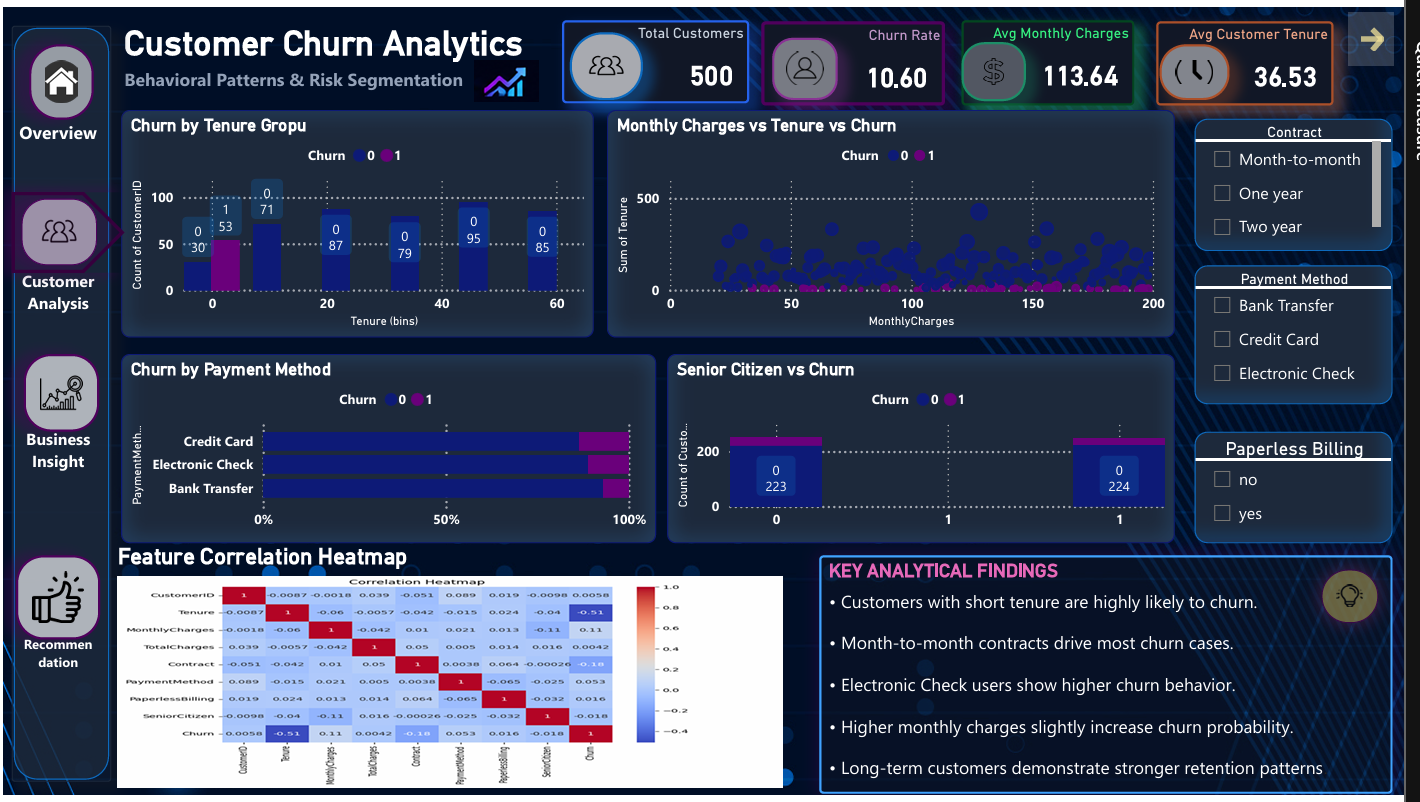

Layout of this report page (visuals, bound fields, positions):
{"tool":"powerbi","page":{"name":"Customer Churn Analysis","canvas":[1280,720],"ordinal":1},"visuals":[{"type":"cardVisual","title":"Total Customers","fields":{"Data":["Count(cleaned_data.CustomerID)"]},"box":[510.4,12.3,170.6,76.1],"z":0},{"type":"cardVisual","title":"Churn Rate","fields":{"Data":["cleaned_data.Churn Rate %"]},"box":[692,13.5,168.1,76.1],"z":1000},{"type":"cardVisual","title":"Avg Monthly Charges","fields":{"Data":["Avg(cleaned_data.MonthlyCharges)"]},"box":[874.9,12.3,158.3,77.3],"z":2000},{"type":"cardVisual","title":"Avg Customer Tenure","fields":{"Data":["Avg(cleaned_data.Tenure)"]},"box":[1052.8,13.5,162,76.1],"z":3000},{"type":"clusteredColumnChart","title":"Churn by Tenure Gropu","fields":{"Series":["cleaned_data.Churn"],"Y":["CountNonNull(cleaned_data.CustomerID)"],"Category":["cleaned_data.Tenure (bins)"]},"box":[106.7,94.5,431.9,207.4],"z":4000},{"type":"slicer","title":"Contract","fields":{"Values":["cleaned_data.Contract"]},"box":[1088.3,101.8,180.4,121.5],"z":5000},{"type":"slicer","title":"Payment Method","fields":{"Values":["cleaned_data.PaymentMethod"]},"box":[1088.3,235.6,180.4,127.6],"z":6000},{"type":"slicer","title":"Paperless Billing","fields":{"Values":["cleaned_data.PaperlessBilling"]},"box":[1088.3,387.7,180.4,101.8],"z":7000},{"type":"image","box":[516.6,23.3,67.5,61.4],"z":8000},{"type":"image","box":[1056.4,34.4,63.8,50.3],"z":9000},{"type":"image","box":[874.9,31.9,58.9,54],"z":10000},{"type":"image","box":[701.8,28.2,60.1,56.4],"z":11000},{"type":"image","box":[1203.7,514.1,52.8,49.1],"z":12000},{"type":"shape","title":"Customer Churn Analytics","box":[110.4,14.7,364.4,73.6],"z":13000},{"type":"shape","box":[7.4,17.2,90.8,690.8],"z":14000},{"type":"image","box":[23.3,34.4,58.9,68.7],"z":15000},{"type":"image","title":"Insight","box":[18.4,316.6,68.7,71.2],"z":16000},{"type":"image","box":[16,175.5,68.7,60.1],"z":17000},{"type":"actionButton","box":[0,94.5,99.4,40.5],"z":18000},{"type":"actionButton","box":[0,220.9,99.4,78.5],"z":19000},{"type":"actionButton","box":[0,364.4,99.4,78.5],"z":20000},{"type":"actionButton","title":"Next","box":[1229.5,4.9,41.7,49.1],"z":21000},{"type":"hundredPercentStackedBarChart","title":"Churn by Payment Method","fields":{"Y":["CountNonNull(cleaned_data.CustomerID)"],"Category":["cleaned_data.PaymentMethod"],"Series":["cleaned_data.Churn"]},"box":[106.7,316.6,489.6,173],"z":22000},{"type":"columnChart","title":"Senior Citizen vs Churn","fields":{"Category":["cleaned_data.SeniorCitizen"],"Y":["CountNonNull(cleaned_data.CustomerID)"],"Series":["cleaned_data.Churn"]},"box":[606.1,316.6,463.8,173],"z":23000},{"type":"scatterChart","title":"Monthly Charges vs Tenure vs Churn","fields":{"X":["cleaned_data.MonthlyCharges"],"Y":["Sum(cleaned_data.Tenure)"],"Series":["cleaned_data.Churn"],"Size":["Sum(cleaned_data.TotalCharges)"]},"box":[550.9,94.5,519,207.4],"z":24000},{"type":"image","title":"Feature Correlation Heatmap","box":[99.4,489.6,617.2,229.4],"z":25000},{"type":"image","box":[424.5,34.4,69.9,67.5],"z":26000},{"type":"shape","box":[7.4,169.3,103.1,73.6],"z":27000},{"type":"textbox","title":"KEY ANALYTICAL FINDINGS","box":[744.8,500.6,523.9,218.4],"z":28000},{"type":"image","box":[11,500.6,77.3,77.3],"z":29000},{"type":"actionButton","box":[13.5,563.2,72.4,54],"z":30000}]}

Visuals, with their boxes in screenshot pixels (x1, y1, x2, y2), scaled from the page's 1280x720 canvas onto the 1420x802 screenshot:
"Total Customers" cardVisual: (566,14,755,98)
"Churn Rate" cardVisual: (768,15,954,100)
"Avg Monthly Charges" cardVisual: (971,14,1146,100)
"Avg Customer Tenure" cardVisual: (1168,15,1348,100)
"Churn by Tenure Gropu" clusteredColumnChart: (118,105,598,336)
"Contract" slicer: (1207,113,1407,249)
"Payment Method" slicer: (1207,262,1407,405)
"Paperless Billing" slicer: (1207,432,1407,545)
image: (573,26,648,94)
image: (1172,38,1243,94)
image: (971,36,1036,96)
image: (779,31,845,94)
image: (1335,573,1394,627)
"Customer Churn Analytics" shape: (122,16,527,98)
shape: (8,19,109,789)
image: (26,38,91,115)
"Insight" image: (20,353,97,432)
image: (18,195,94,262)
actionButton: (0,105,110,150)
actionButton: (0,246,110,333)
actionButton: (0,406,110,493)
"Next" actionButton: (1364,5,1410,60)
"Churn by Payment Method" hundredPercentStackedBarChart: (118,353,662,545)
"Senior Citizen vs Churn" columnChart: (672,353,1187,545)
"Monthly Charges vs Tenure vs Churn" scatterChart: (611,105,1187,336)
"Feature Correlation Heatmap" image: (110,545,795,801)
image: (471,38,548,114)
shape: (8,189,123,271)
"KEY ANALYTICAL FINDINGS" textbox: (826,558,1407,801)
image: (12,558,98,644)
actionButton: (15,627,95,687)
